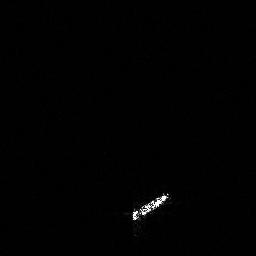ship: (128, 188, 175, 227)
